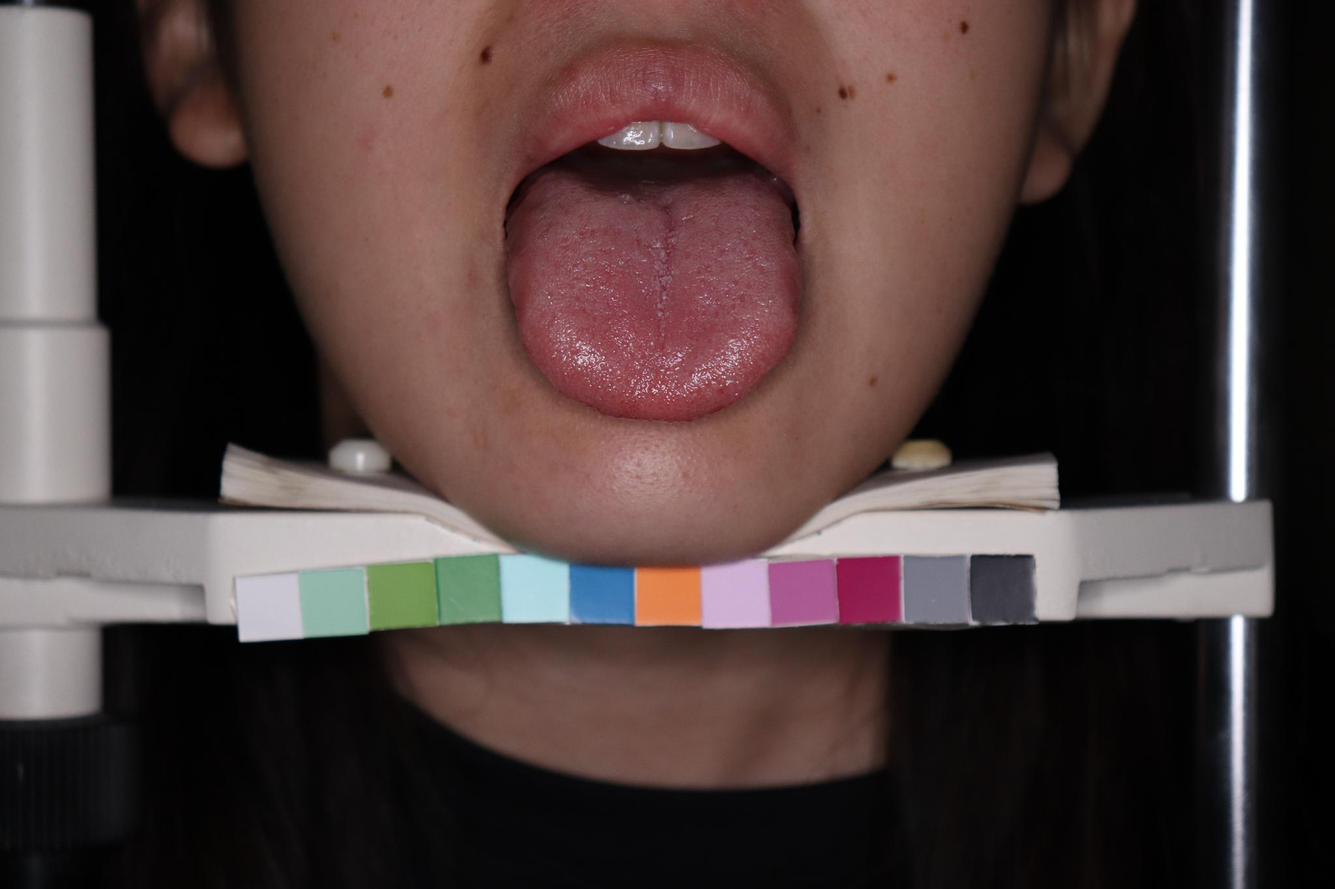baitaishe: (504, 161, 802, 421)
hongshe: (504, 160, 802, 420)
liewenshe: (646, 203, 677, 337)
